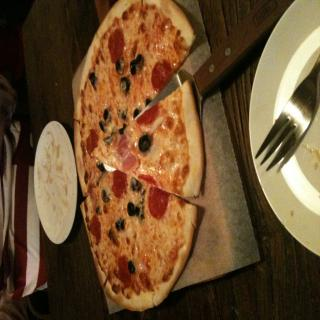Pizza: (73, 0, 205, 314), (89, 77, 216, 198)
